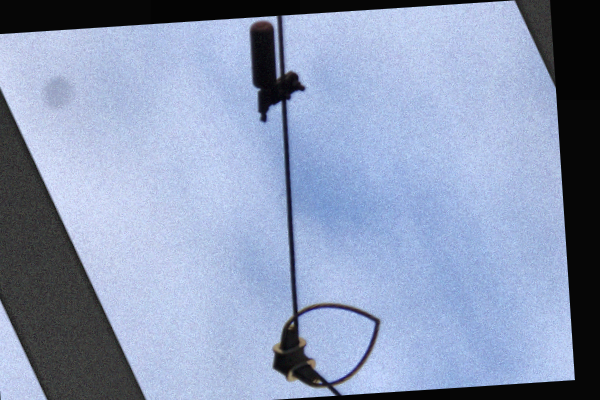damper_defect: (248, 18, 308, 130)
